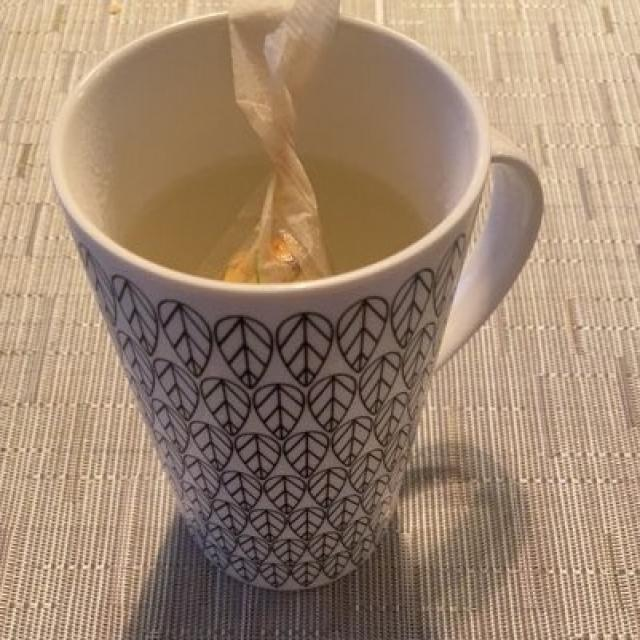tea: (122, 152, 434, 287)
